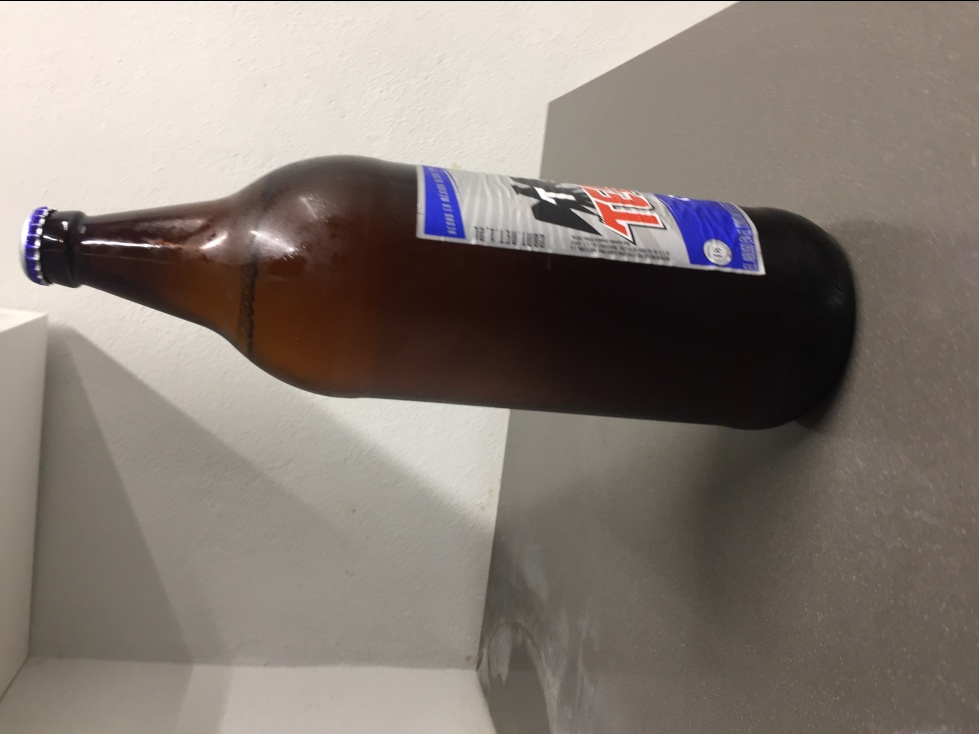tecateC: (25, 150, 869, 445)
